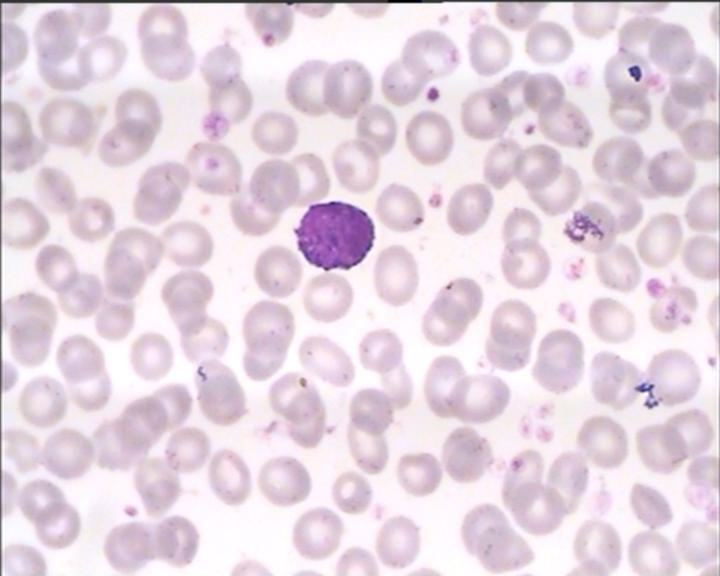baso: (290, 194, 376, 275)
